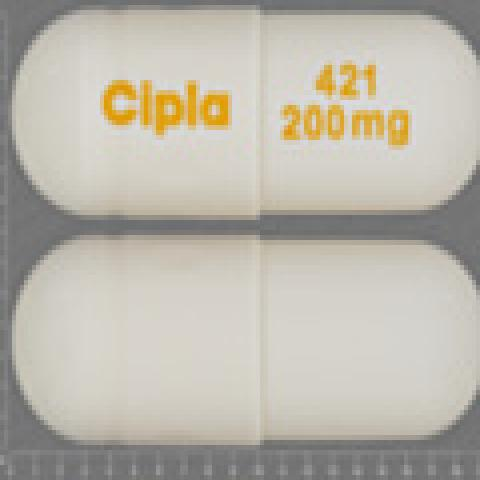Pill: (6, 218, 480, 467)
